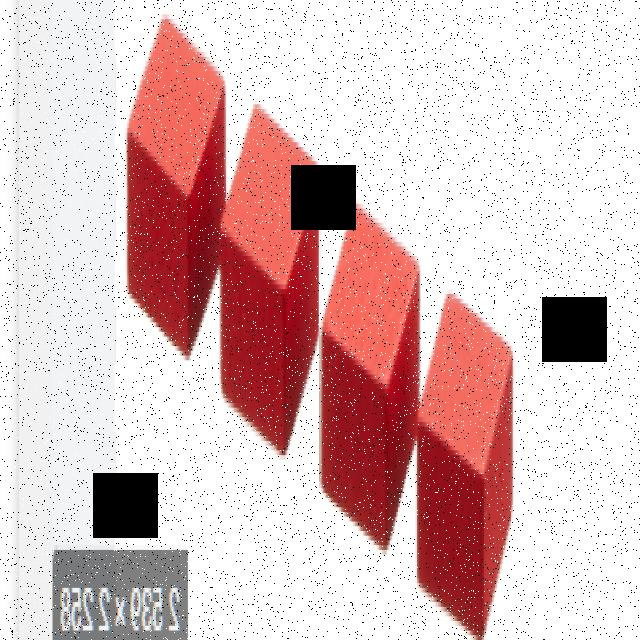red cube: (217, 100, 321, 464), (318, 197, 420, 555), (416, 285, 514, 640), (125, 12, 225, 359)
